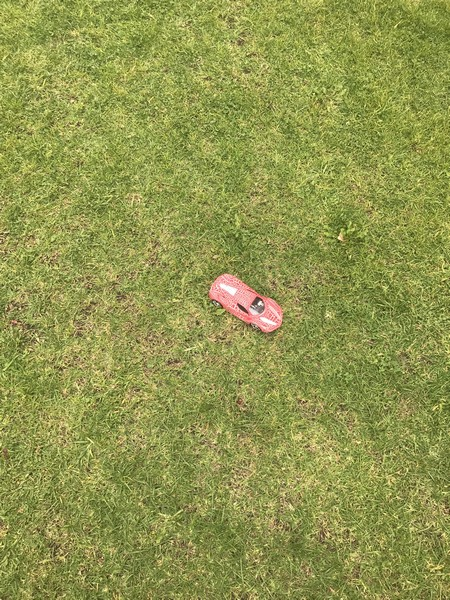RC: (207, 272, 285, 335)
